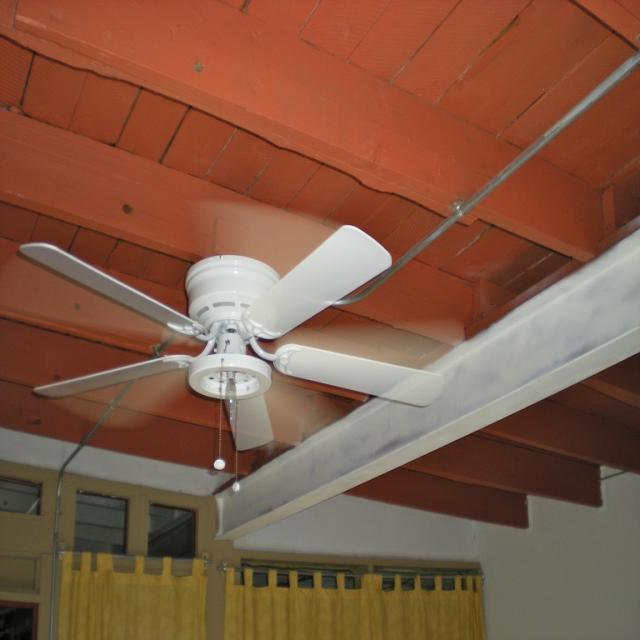fan_off: (3, 224, 452, 454)
